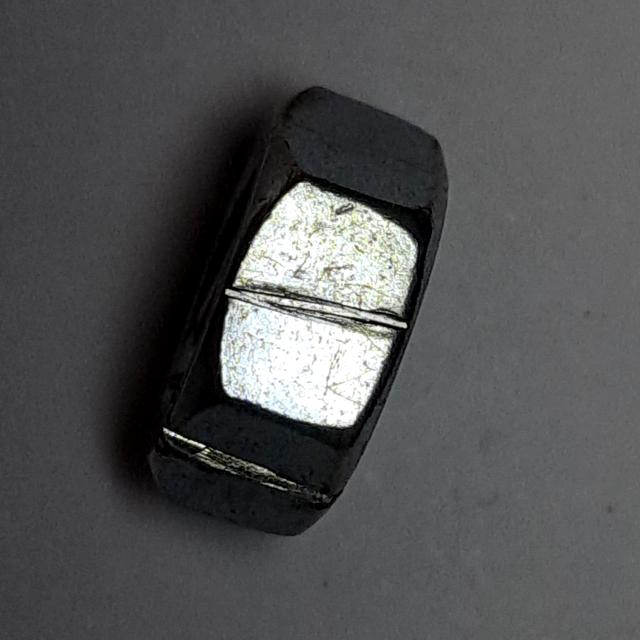Side_Scratches: (133, 72, 460, 558)
